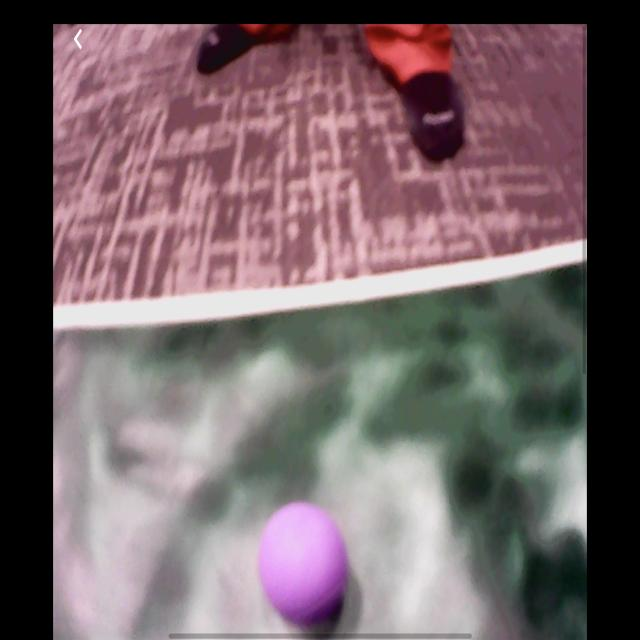ball: (259, 503, 351, 628)
